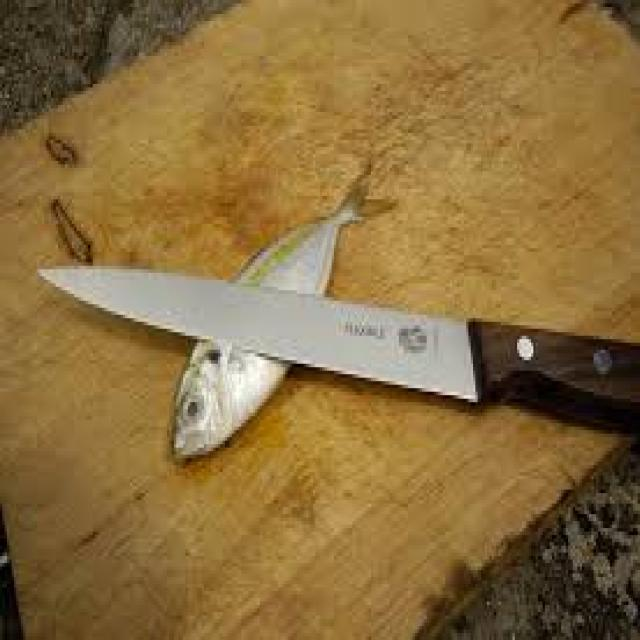Knife: (39, 266, 638, 427)
